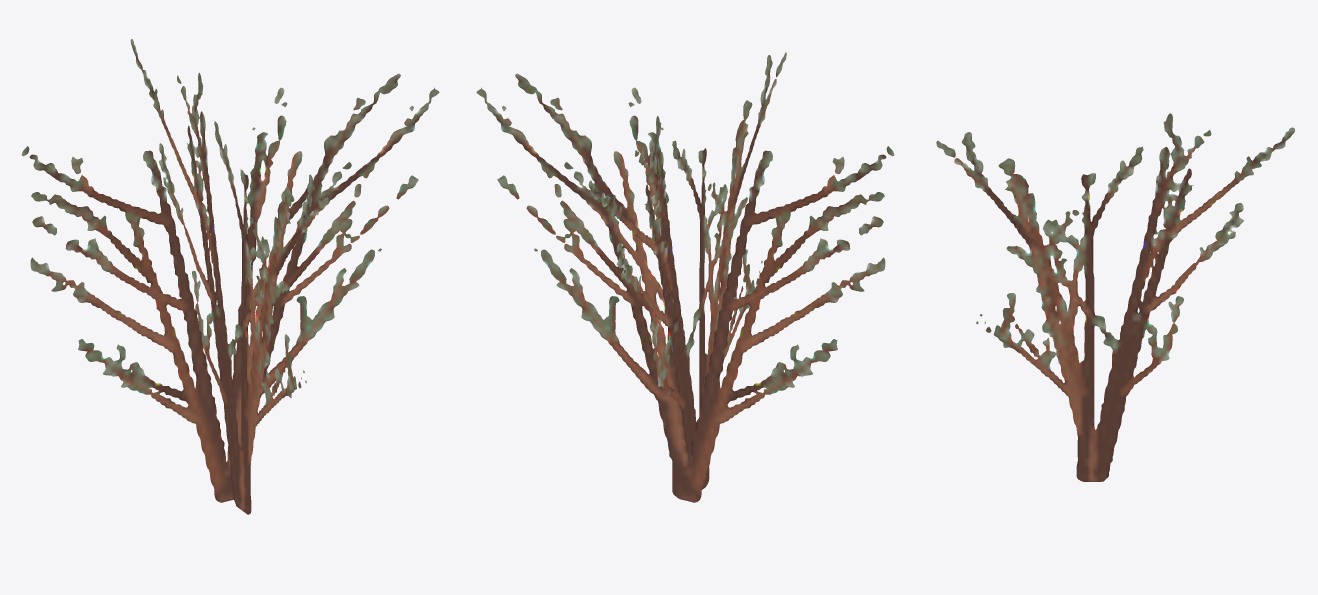
Rendered from tamarisk-far.glb.
3 renders of one model, left to right at view 1: azimuth 30°, elevation 25°; view 2: azimuth 150°, elevation 25°; view 3: azimuth 270°, elevation 25°, orthographic. The views are drawn at different scales.
Size of the model in its own units: 1.13 by 1.05 by 0.9431.
1 material, 1 textured.
